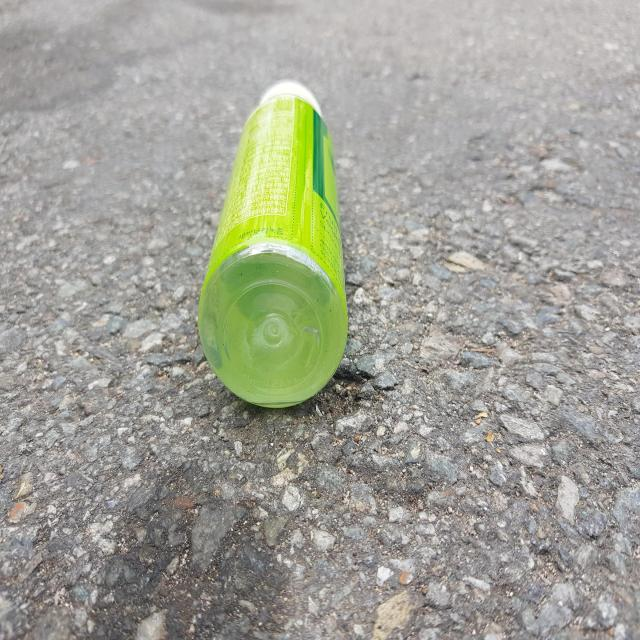plastic: (198, 80, 348, 407)
